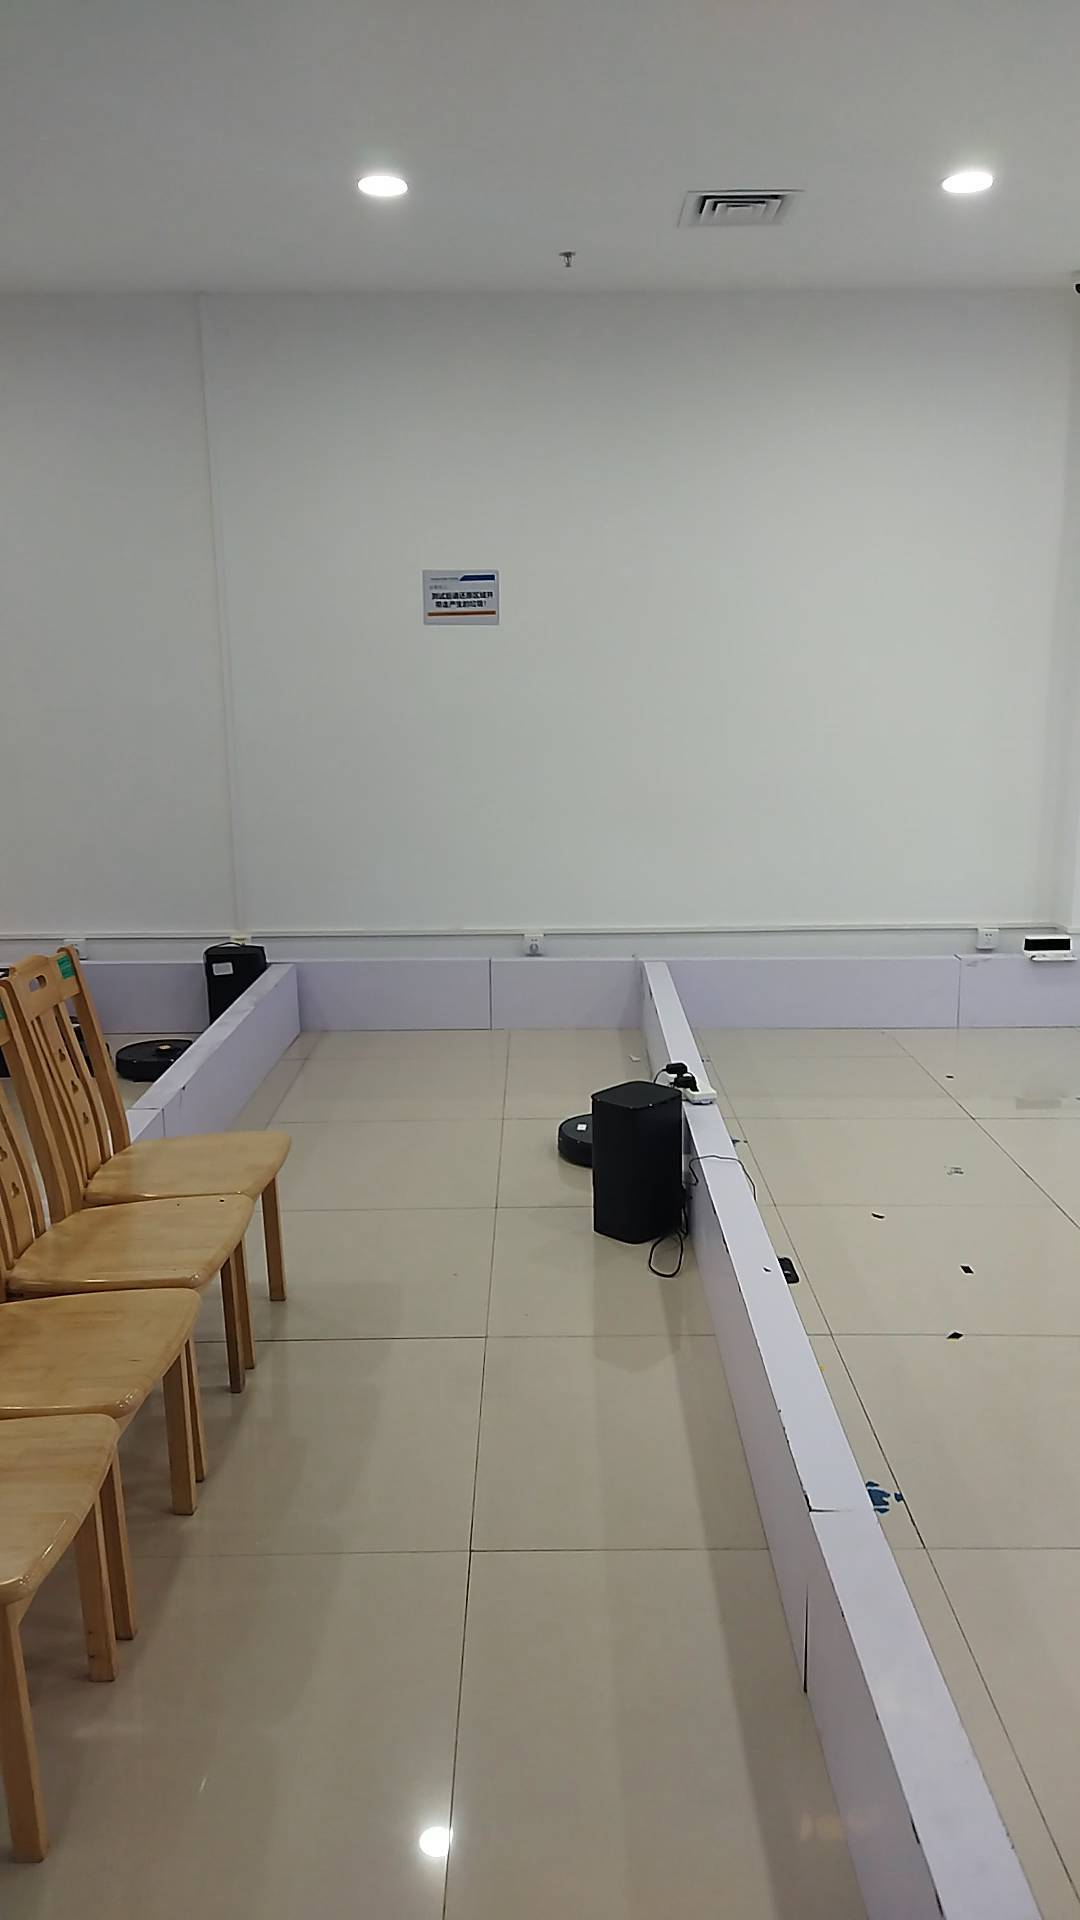dust collecting barrel: (585, 1084, 694, 1249), (204, 943, 266, 1022)
recharge seat: (1023, 936, 1077, 961)
